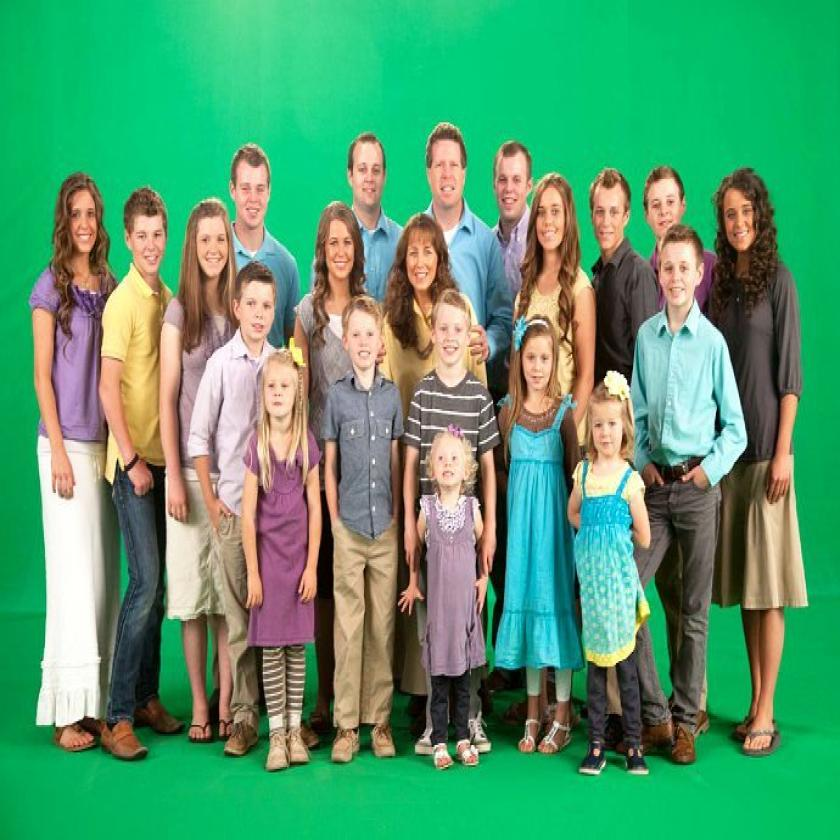Sin_casco: (715, 166, 778, 255), (57, 165, 108, 274), (119, 182, 174, 282), (185, 198, 236, 298), (652, 222, 704, 318), (592, 167, 639, 265), (491, 128, 538, 225), (228, 263, 277, 352), (318, 198, 362, 294), (532, 170, 576, 266), (260, 347, 310, 431), (429, 291, 474, 379), (584, 384, 628, 472), (229, 142, 272, 232), (400, 213, 439, 307), (427, 119, 471, 202), (521, 315, 560, 408), (350, 129, 388, 220), (348, 293, 386, 381), (641, 166, 688, 235)
